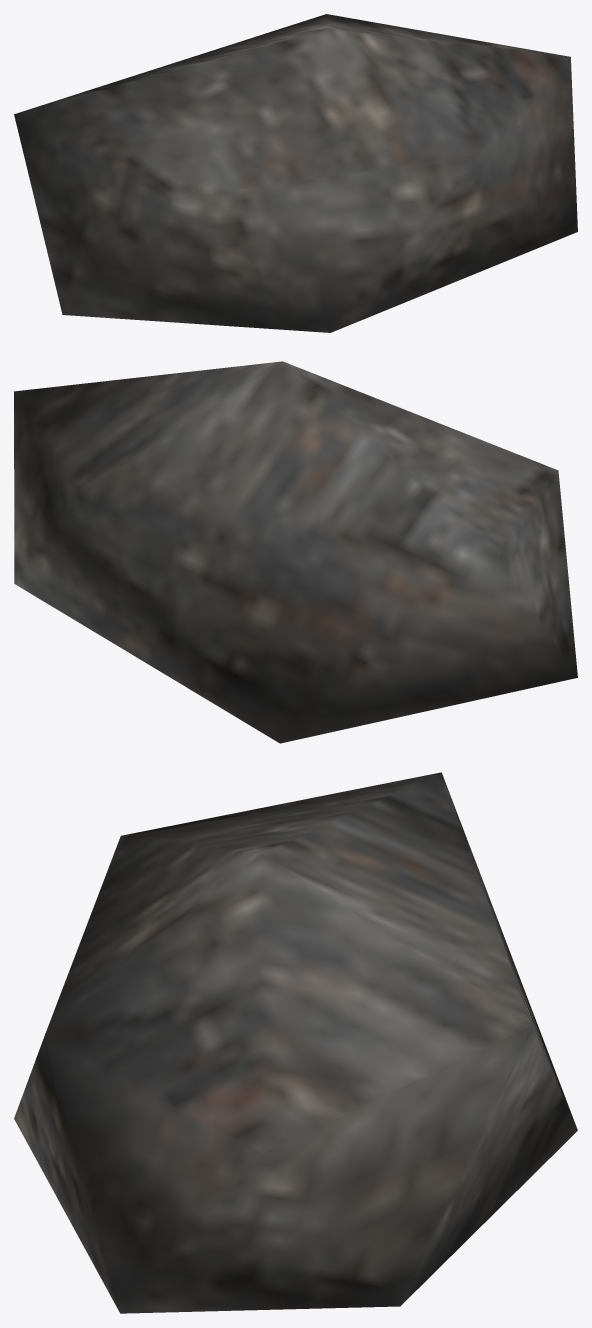
Rendered from SM_HarvestRock_Chip04.fbx.
3 views of the same model, one above another, from view 1: azimuth 30°, elevation 25°; view 2: azimuth 150°, elevation 25°; view 3: azimuth 270°, elevation 25° (orthographic). The views are drawn at different scales.
Parts seen in each view (by area): view 1: SM_HarvestRock_Chip04; view 2: SM_HarvestRock_Chip04; view 3: SM_HarvestRock_Chip04.
Boxes of the visible parts, x1,y1,x2,y2 form: SM_HarvestRock_Chip04: [14, 14, 577, 332]; SM_HarvestRock_Chip04: [14, 361, 577, 743]; SM_HarvestRock_Chip04: [14, 772, 577, 1313].
Size of the model in its own units: 39.6 by 25.98 by 22.13.
Materials: 1 (1 with a texture image).
